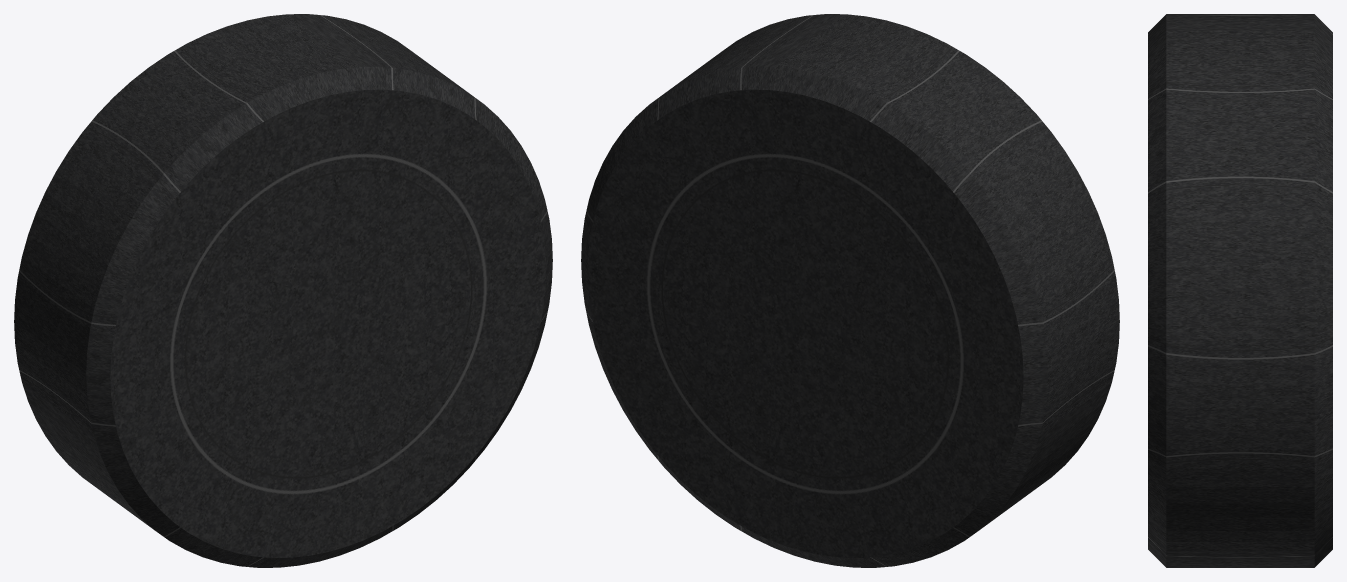
Rendered from puck_vis.obj.
The picture shows the model from 3 angles, left to right: view 1: azimuth 30°, elevation 25°; view 2: azimuth 150°, elevation 25°; view 3: azimuth 270°, elevation 25°; orthographic projection. The views are drawn at different scales.
Size of the model in its own units: 0.0762 by 0.0762 by 0.0254.
1 material, 1 textured.
